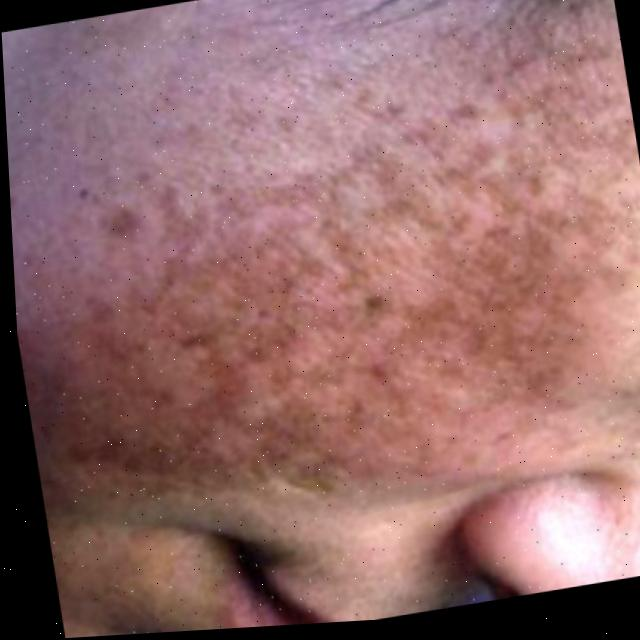Melasma: (112, 99, 589, 482)
